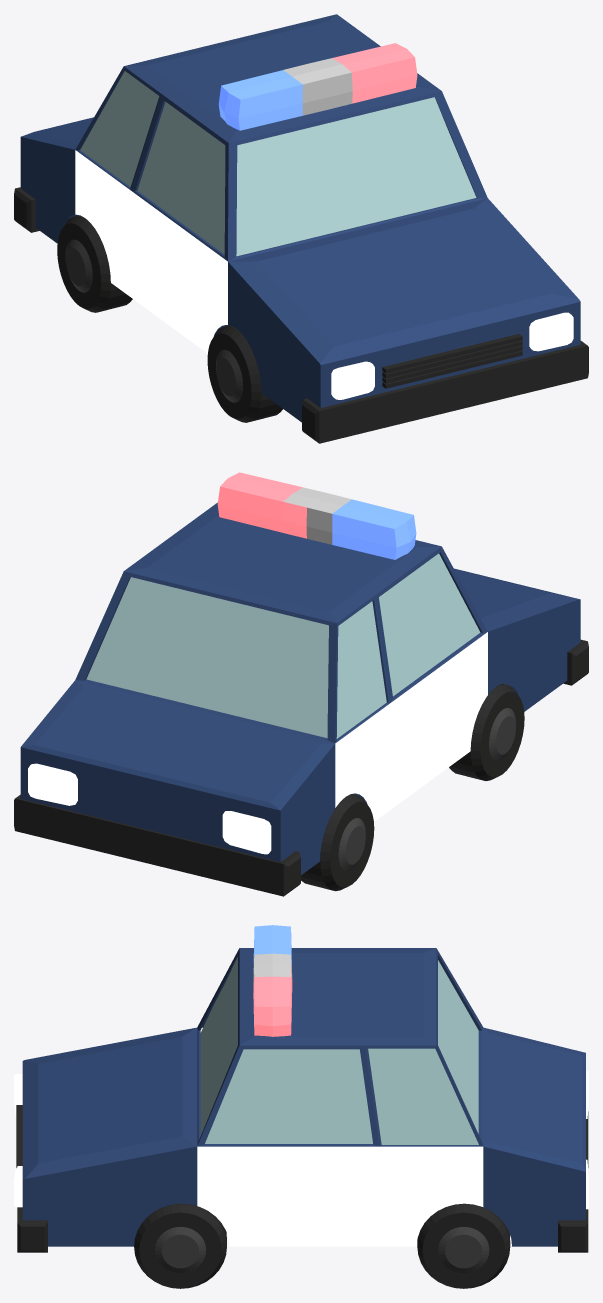
The model's file is polizeiauto.fbx.
The picture shows the model from 3 angles, top to bottom: view 1: azimuth 30°, elevation 25°; view 2: azimuth 150°, elevation 25°; view 3: azimuth 270°, elevation 25°; orthographic projection. The views are drawn at different scales.
Visible parts, largest first — view 1: auto, frontscheibe, polizeilicht, reifen vr, reifen hl; view 2: auto, polizeilicht, reifen hl, reifen vr; view 3: auto, seitenfenster, reifen hl.001, reifen vl, polizeilicht, frontscheibe.
Part boxes in pixels (<box>): auto: <box>14,14,588,443</box>; frontscheibe: <box>236,97,476,256</box>; polizeilicht: <box>218,43,417,130</box>; reifen vr: <box>207,325,282,422</box>; reifen hl: <box>57,215,132,312</box>; auto: <box>14,502,588,896</box>; polizeilicht: <box>217,472,416,559</box>; reifen hl: <box>301,794,374,891</box>; reifen vr: <box>449,683,524,780</box>; auto: <box>14,948,588,1252</box>; seitenfenster: <box>205,1049,372,1143</box>; reifen hl.001: <box>417,1203,510,1288</box>; reifen vl: <box>134,1203,226,1288</box>; polizeilicht: <box>253,925,292,1036</box>; frontscheibe: <box>200,957,237,1135</box>.
Bounding box in the file's own units: 323 × 311 × 612.
